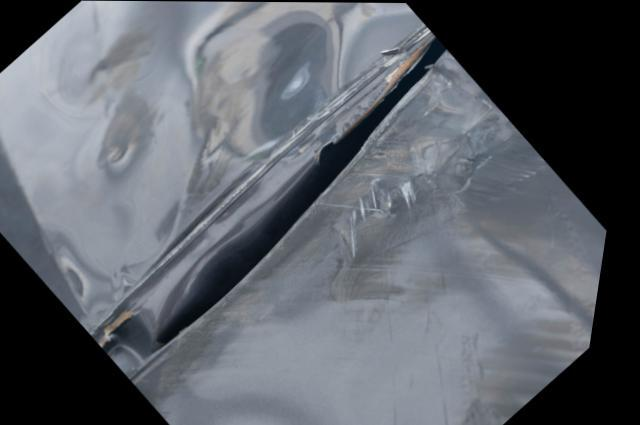dent: (60, 0, 422, 299)
scratch: (155, 44, 614, 425)
